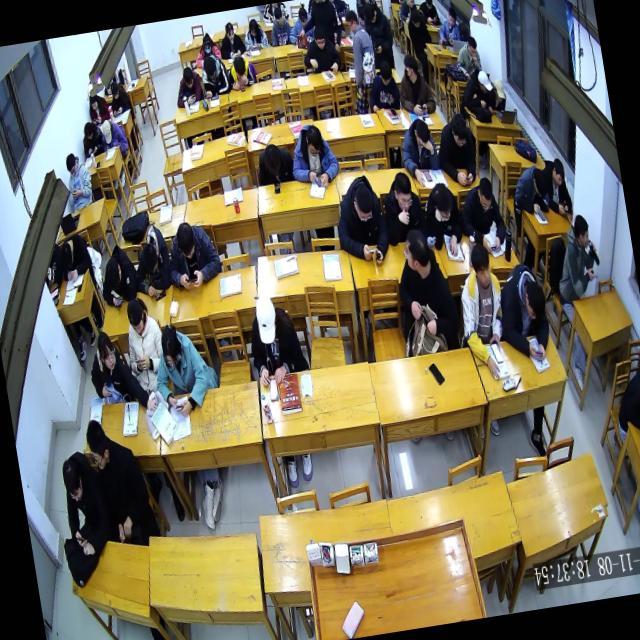bow: (126, 222, 176, 302), (94, 240, 142, 310), (507, 162, 552, 218), (254, 138, 297, 188), (56, 230, 94, 286), (458, 65, 497, 113), (198, 52, 232, 100), (170, 63, 205, 109), (404, 6, 434, 56), (266, 2, 294, 49), (225, 52, 258, 91), (191, 31, 224, 69)
down: (252, 292, 280, 346), (520, 278, 550, 324), (60, 458, 86, 506), (158, 324, 184, 370), (174, 219, 198, 261), (302, 120, 326, 158), (449, 112, 471, 150), (140, 241, 162, 278), (125, 298, 146, 336), (262, 142, 284, 178), (103, 256, 125, 292), (412, 118, 433, 150), (530, 167, 550, 200), (550, 157, 567, 189), (58, 240, 76, 270), (476, 68, 494, 97), (310, 25, 328, 52), (378, 58, 394, 88), (362, 1, 379, 28), (492, 77, 508, 105), (64, 152, 80, 179), (232, 55, 248, 80), (100, 117, 114, 144), (182, 65, 196, 89), (296, 6, 310, 29), (408, 8, 422, 30), (465, 36, 478, 59), (247, 16, 260, 37), (82, 121, 94, 142), (273, 6, 285, 27), (202, 34, 214, 54), (224, 20, 236, 40), (110, 79, 120, 99), (88, 92, 99, 110), (423, 0, 434, 12), (405, 0, 416, 10)
lookup: (82, 418, 112, 475), (468, 241, 496, 290), (446, 7, 459, 30)
sit: (83, 410, 160, 550), (391, 222, 464, 360), (450, 240, 516, 386), (82, 322, 158, 422), (315, 153, 387, 257), (492, 258, 556, 368), (146, 318, 213, 422), (56, 446, 115, 559), (242, 288, 309, 387), (546, 211, 605, 308), (120, 292, 172, 398), (416, 165, 470, 264), (160, 216, 225, 293), (340, 4, 384, 113), (372, 164, 428, 247), (456, 168, 510, 250), (286, 118, 342, 192), (431, 110, 481, 188), (396, 116, 444, 192), (392, 48, 439, 120), (362, 0, 399, 74), (298, 20, 342, 77), (609, 364, 640, 441), (362, 58, 403, 116), (60, 148, 96, 212), (540, 155, 574, 221), (453, 34, 485, 82), (284, 3, 318, 46), (99, 116, 130, 159), (434, 6, 463, 51), (216, 19, 247, 61), (80, 118, 106, 160), (240, 16, 270, 52), (106, 76, 132, 116), (86, 89, 112, 126), (416, 0, 441, 26), (395, 0, 419, 26)
